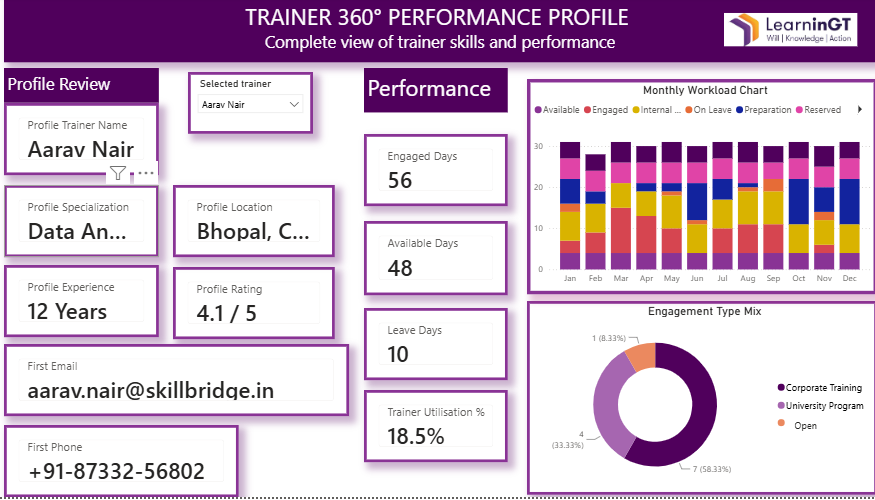

What the dashboard file says about the page in this screenshot:
{"tool":"powerbi","page":{"name":"Trainer 360","canvas":[1280,720],"ordinal":2},"visuals":[{"type":"textbox","box":[13,0,1255.7,93.6],"z":0},{"type":"slicer","fields":{"Values":["Dim_Trainer.Trainer_Name"]},"box":[277.9,108,180,89.3],"z":1000},{"type":"cardVisual","fields":{"Data":["Fact_TrainerCalendar.Profile Trainer Name"]},"box":[13,152.6,223.2,103.7],"z":2000},{"type":"cardVisual","fields":{"Data":["Fact_TrainerCalendar.Profile Specialization"]},"box":[13,270.7,223.2,103.7],"z":3000},{"type":"cardVisual","fields":{"Data":["Fact_TrainerCalendar.Profile Experience"]},"box":[13,385.9,223.2,103.7],"z":4000},{"type":"cardVisual","fields":{"Data":["Fact_TrainerCalendar.Profile Rating"]},"box":[256.3,388.8,233.3,103.7],"z":5000},{"type":"cardVisual","fields":{"Data":["Fact_TrainerCalendar.Profile Location"]},"box":[256.3,270.7,233.3,103.7],"z":6000},{"type":"cardVisual","fields":{"Data":["Min(Dim_Trainer.Email)"]},"box":[13,499.7,496.8,103.7],"z":7000},{"type":"cardVisual","fields":{"Data":["Min(Dim_Trainer.Phone)"]},"box":[13,616.3,338.4,103.7],"z":8000},{"type":"textbox","box":[12.5,101.9,223.5,50.1],"z":9000},{"type":"textbox","box":[530.9,101.9,207.4,64.4],"z":10000},{"type":"cardVisual","fields":{"Data":["Fact_TrainerCalendar.Engaged Days"]},"box":[531.4,197.3,207.4,103.7],"z":11000},{"type":"cardVisual","fields":{"Data":["Fact_TrainerCalendar.Available Days Final"]},"box":[531.4,322.6,207.4,106.6],"z":12000},{"type":"cardVisual","fields":{"Data":["Dim_Date.Leave Days Final"]},"box":[531.4,447.8,207.4,103.7],"z":13000},{"type":"cardVisual","fields":{"Data":["Fact_TrainerCalendar.Trainer Utilisation % Final"]},"box":[531.4,565.9,207.4,103.7],"z":15000},{"type":"donutChart","title":"Engagement Type Mix","fields":{"Category":["Fact_TrainerCalendar.Engagement_Type"],"Y":["Count(Fact_TrainerCalendar.Engagement_ID)"]},"box":[766.1,437.8,504,279.4],"z":16000},{"type":"textbox","box":[1146.2,603.4,60.5,27.4],"z":17000},{"type":"columnChart","title":"Monthly Workload Chart","fields":{"Y":["CountNonNull(Fact_TrainerCalendar.Record_ID)"],"Category":["Dim_Date.Month name Fixed"],"Series":["Fact_TrainerCalendar.Calendar Status Final"]},"box":[766.1,118.1,504,309.6],"z":18000},{"type":"image","box":[1049.8,0,191.5,93.6],"z":19000}]}

Visuals, with their boxes in screenshot pixels (x1, y1, x2, y2), scaled from the page's 1280x720 canvas onto the 875x500 screenshot:
textbox: <region>9, 0, 867, 65</region>
slicer - Dim_Trainer.Trainer_Name: <region>190, 75, 313, 137</region>
cardVisual - Fact_TrainerCalendar.Profile Trainer Name: <region>9, 106, 161, 178</region>
cardVisual - Fact_TrainerCalendar.Profile Specialization: <region>9, 188, 161, 260</region>
cardVisual - Fact_TrainerCalendar.Profile Experience: <region>9, 268, 161, 340</region>
cardVisual - Fact_TrainerCalendar.Profile Rating: <region>175, 270, 335, 342</region>
cardVisual - Fact_TrainerCalendar.Profile Location: <region>175, 188, 335, 260</region>
cardVisual - Min(Dim_Trainer.Email): <region>9, 347, 348, 419</region>
cardVisual - Min(Dim_Trainer.Phone): <region>9, 428, 240, 499</region>
textbox: <region>9, 71, 161, 106</region>
textbox: <region>363, 71, 505, 115</region>
cardVisual - Fact_TrainerCalendar.Engaged Days: <region>363, 137, 505, 209</region>
cardVisual - Fact_TrainerCalendar.Available Days Final: <region>363, 224, 505, 298</region>
cardVisual - Dim_Date.Leave Days Final: <region>363, 311, 505, 383</region>
cardVisual - Fact_TrainerCalendar.Trainer Utilisation % Final: <region>363, 393, 505, 465</region>
"Engagement Type Mix" donutChart: <region>524, 304, 868, 498</region>
textbox: <region>784, 419, 825, 438</region>
"Monthly Workload Chart" columnChart: <region>524, 82, 868, 297</region>
image: <region>718, 0, 849, 65</region>
